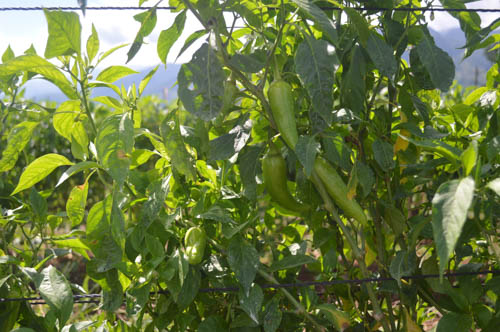ChiliPepper: (313, 158, 367, 224), (264, 155, 304, 211), (266, 81, 297, 150), (186, 226, 206, 266)
